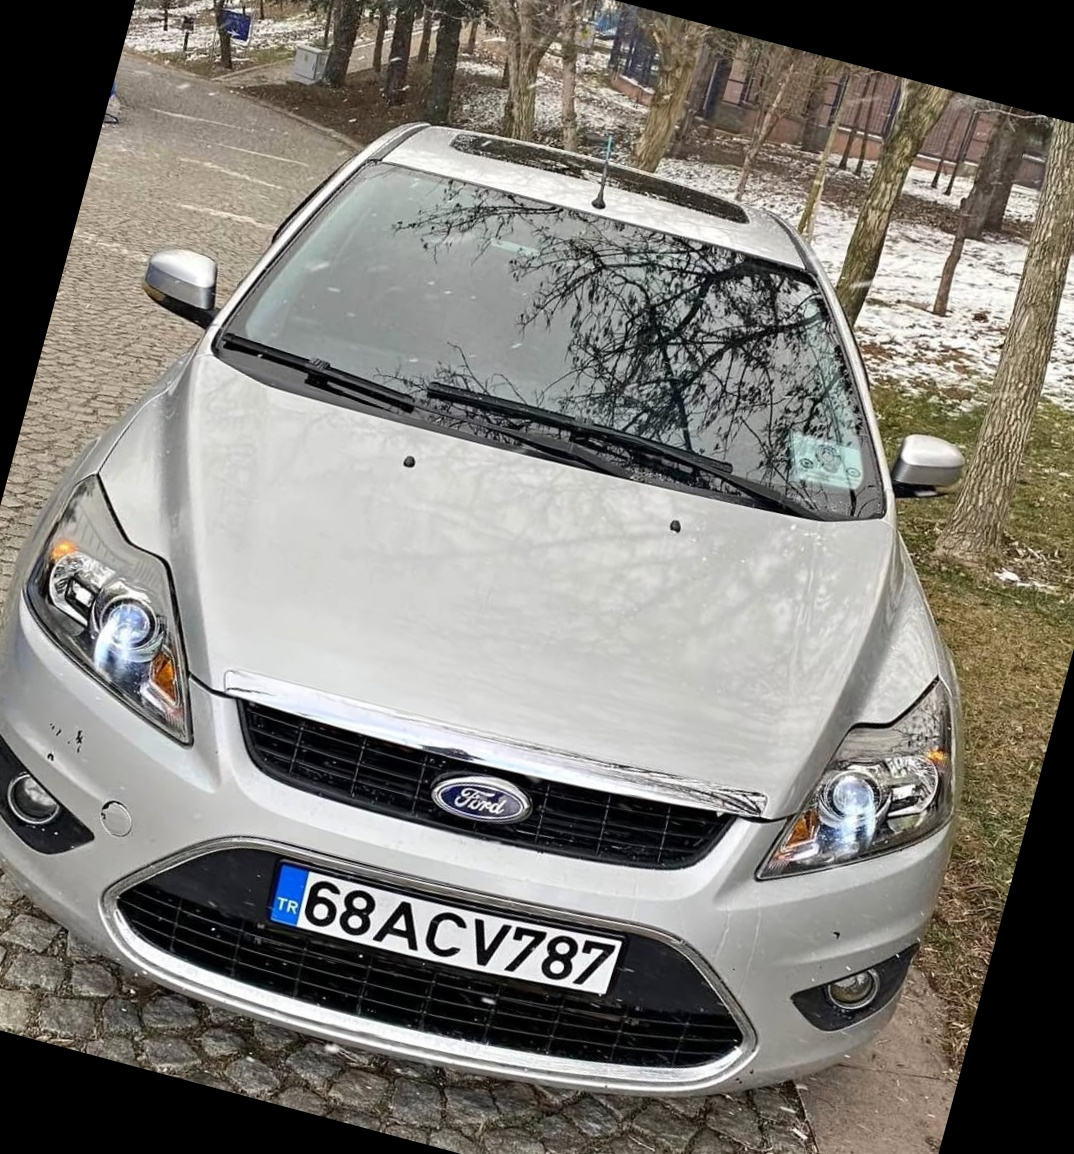plaka: (302, 858, 614, 993)
